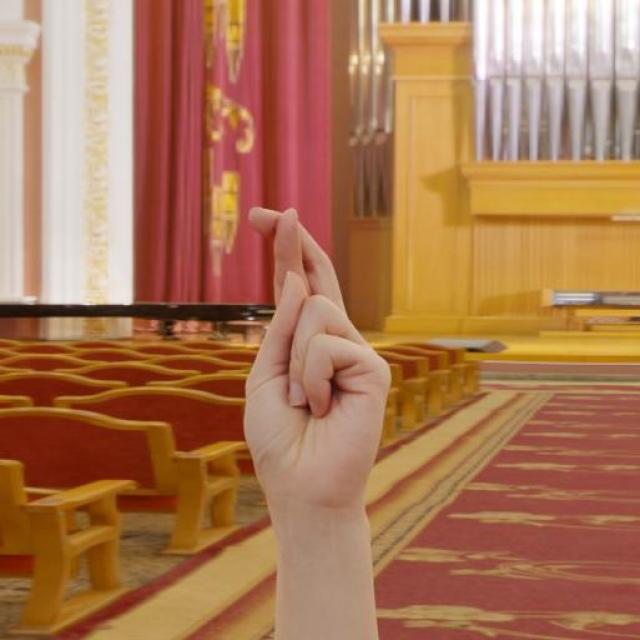R: (204, 170, 426, 640)
